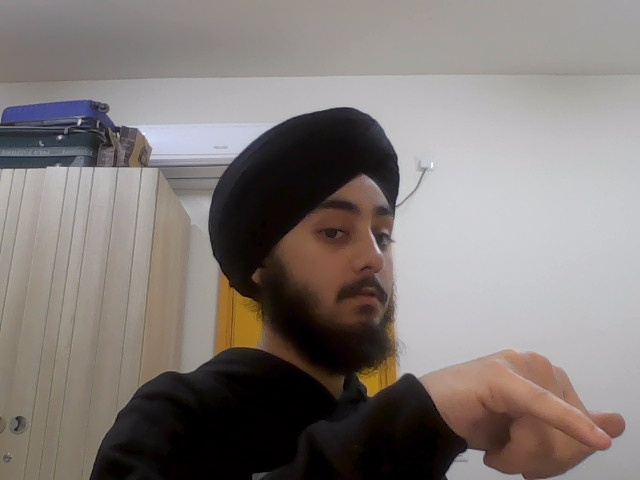Same: (457, 336, 633, 480)
